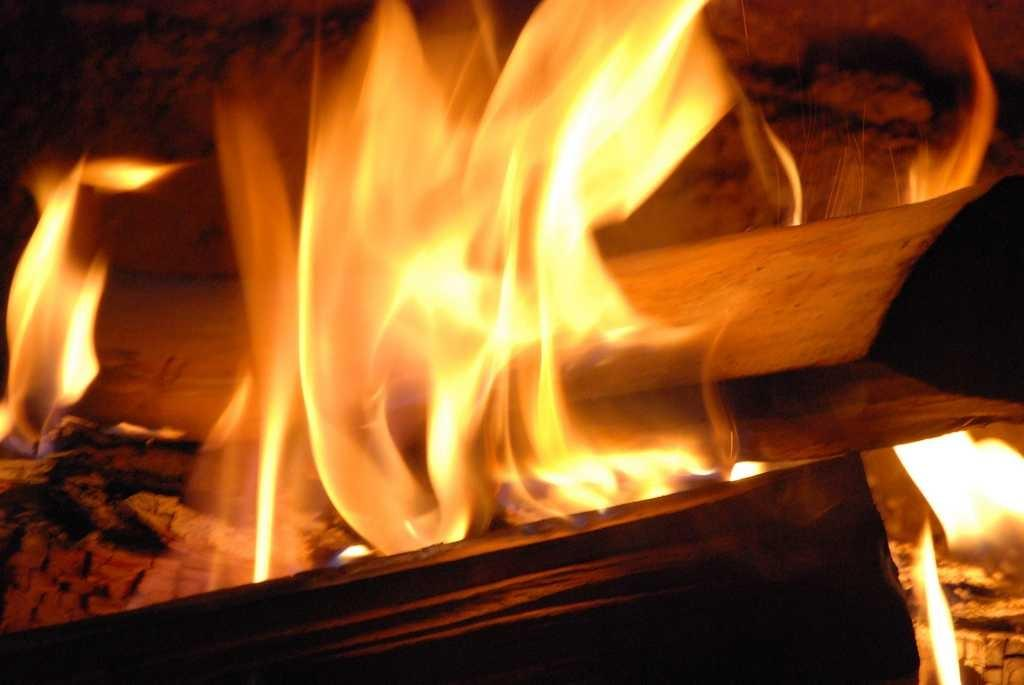fire: (239, 79, 652, 500)
